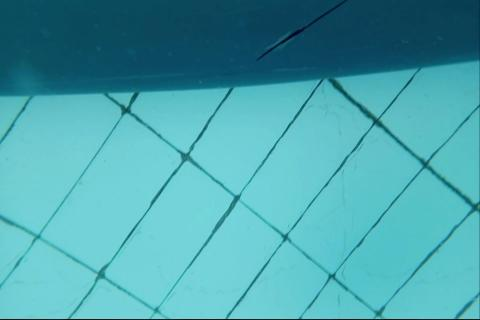keretakan: (253, 0, 349, 61)
